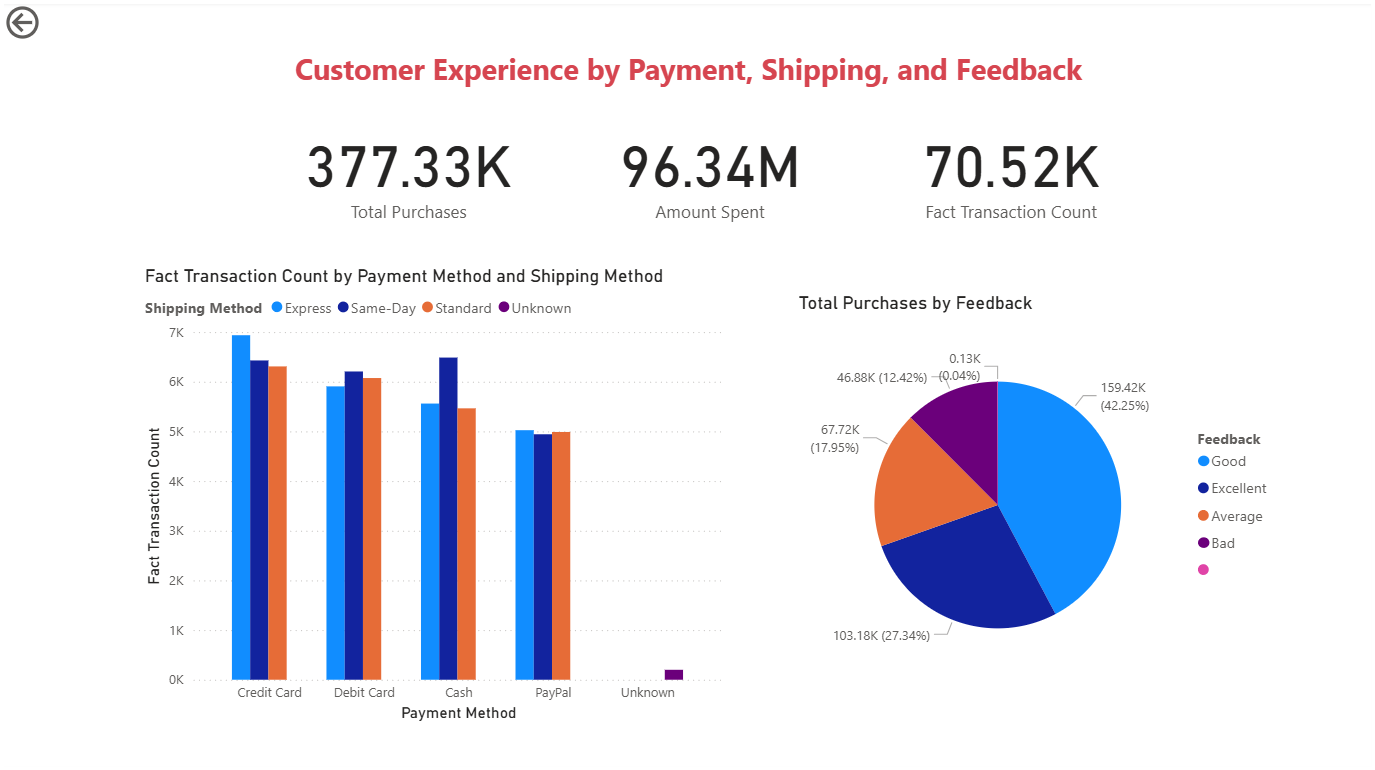

This screenshot's page, from the dashboard's own definition file:
{"tool":"powerbi","page":{"name":"Page 2","canvas":[1280,720],"ordinal":1},"visuals":[{"type":"card","fields":{"Values":["Fact Transaction.Amount Spent"]},"box":[519.4,100.9,280,112.9],"z":0},{"type":"card","fields":{"Values":["Fact Transaction.Fact Transaction Count"]},"box":[799.4,100.9,280,112.9],"z":1000},{"type":"card","fields":{"Values":["Fact Transaction.Total Purchases"]},"box":[239.4,100.9,280,112.9],"z":2000},{"type":"actionButton","box":[0,0,100,40],"z":3000},{"type":"pieChart","fields":{"Category":["Dim Feedback.Feedback"],"Y":["Fact Transaction.Total Purchases"]},"box":[737.1,271.4,458.6,377.1],"z":4000},{"type":"clusteredColumnChart","fields":{"Category":["Dim Transaction Logistics.Payment Method"],"Y":["Fact Transaction.Fact Transaction Count"],"Series":["Dim Transaction Logistics.Shipping Method"]},"box":[129.1,244.9,548.6,430],"z":5000},{"type":"textbox","box":[214.3,40,851.4,61.4],"z":6000}]}

Visuals, with their boxes in screenshot pixels (x1, y1, x2, y2), scaled from the page's 1280x720 canvas onto the 1375x770 screenshot:
card - Fact Transaction.Amount Spent: {"left": 558, "top": 108, "right": 859, "bottom": 229}
card - Fact Transaction.Fact Transaction Count: {"left": 859, "top": 108, "right": 1160, "bottom": 229}
card - Fact Transaction.Total Purchases: {"left": 257, "top": 108, "right": 558, "bottom": 229}
actionButton: {"left": 0, "top": 0, "right": 107, "bottom": 43}
pieChart - Dim Feedback.Feedback x Fact Transaction.Total Purchases: {"left": 792, "top": 290, "right": 1284, "bottom": 694}
clusteredColumnChart - Dim Transaction Logistics.Payment Method x Fact Transaction.Fact Transaction Count: {"left": 139, "top": 262, "right": 728, "bottom": 722}
textbox: {"left": 230, "top": 43, "right": 1145, "bottom": 108}
